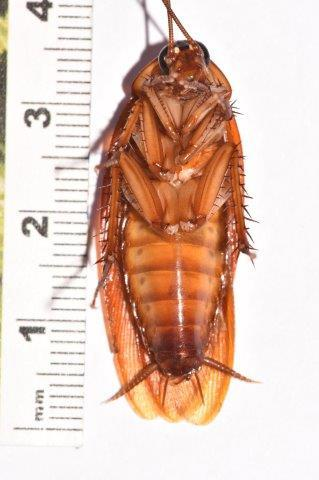cockroach: (95, 33, 251, 422)
